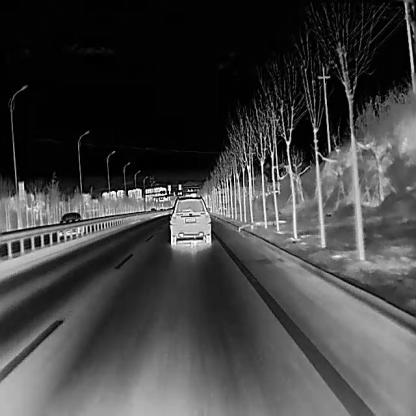car: (168, 193, 210, 247), (57, 210, 83, 239)
